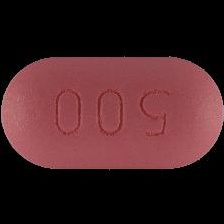16571-215: (0, 0, 224, 224)
